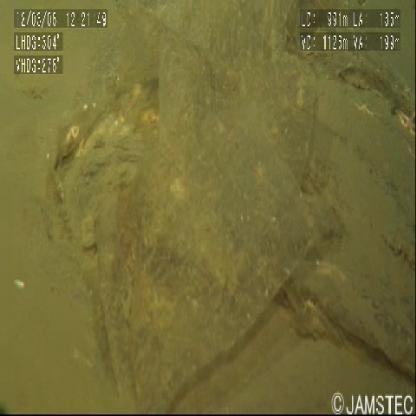Rác: (44, 9, 415, 393)
